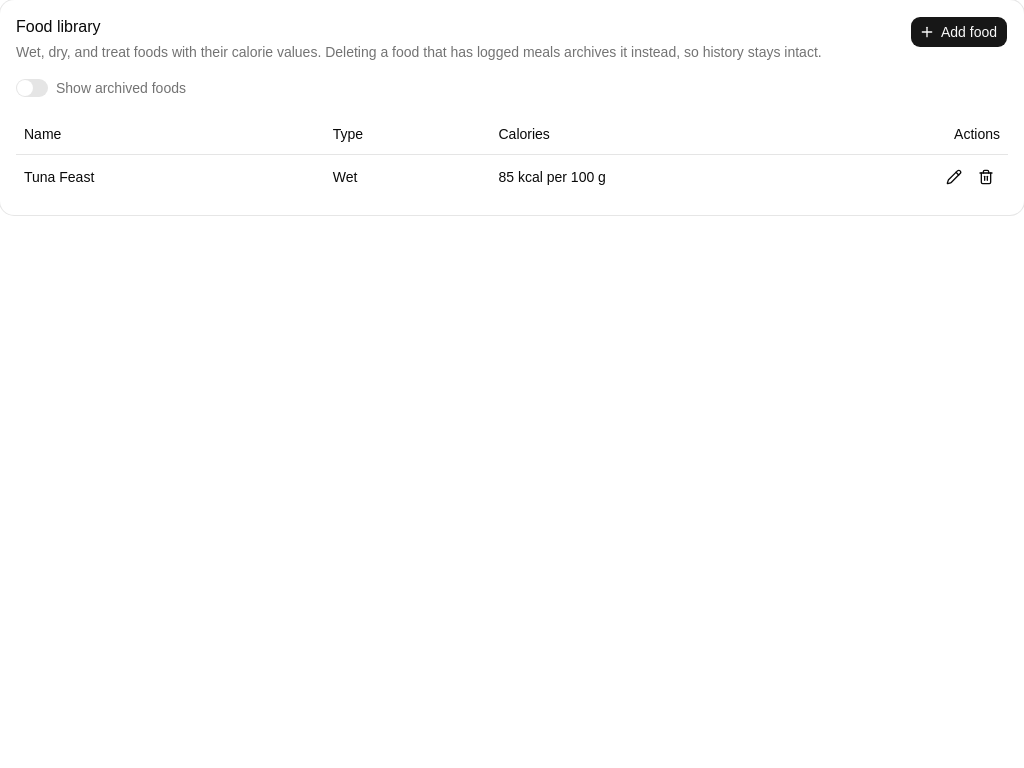
archiving a food warns and names the cats whose defaults were cleared
Click the button named "Delete Tuna Feast". click: (986, 176)
box: [972,162,1000,190]
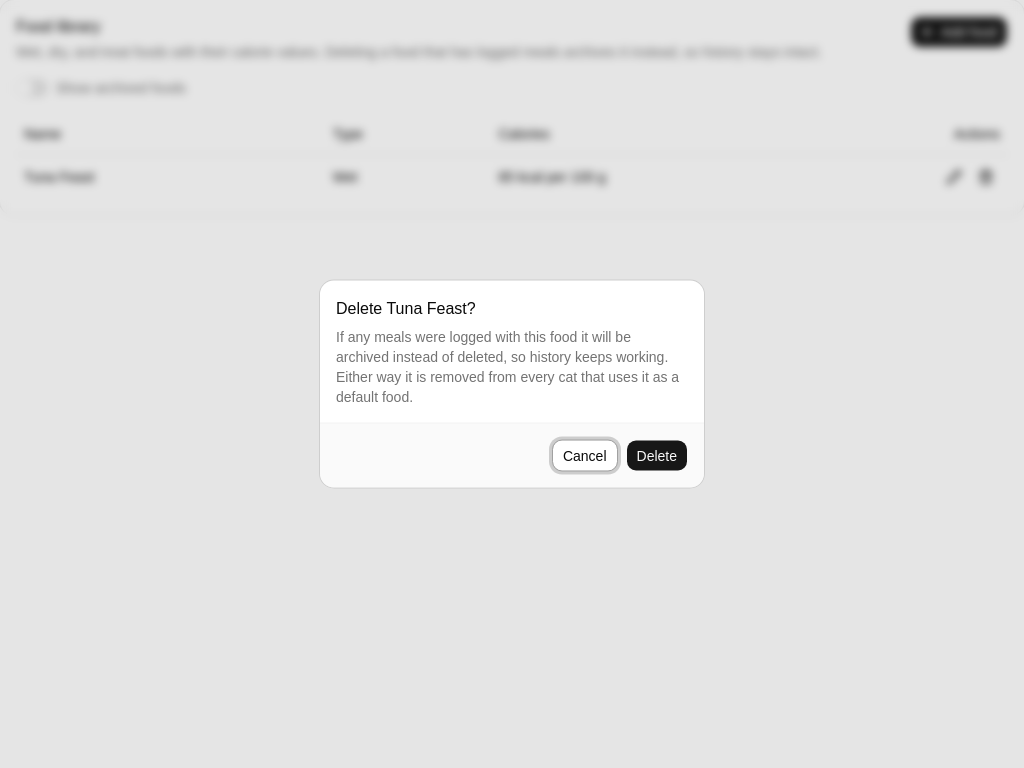
Click the button "Delete". click: (657, 456)
box: [626,440,688,472]
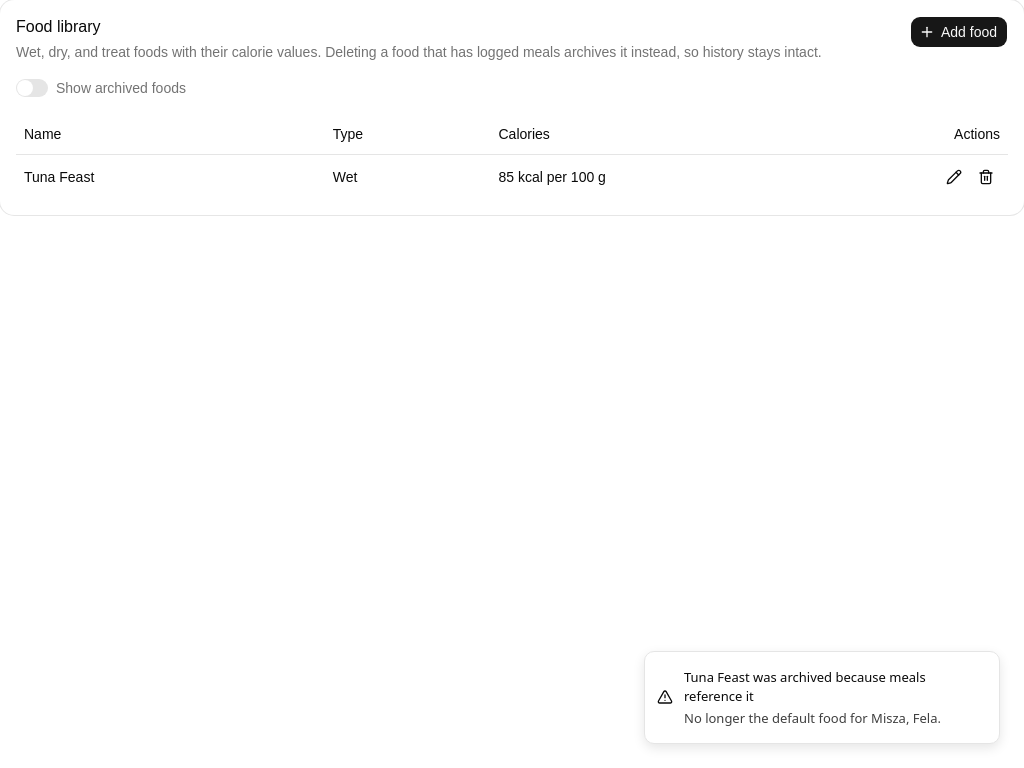
Expected: the text "Tuna Feast was archived because meals reference it" is shown, [684,668,926,705]
Expected: the text "No longer the default food for Misza, Fela." is shown, [684,709,983,727]
